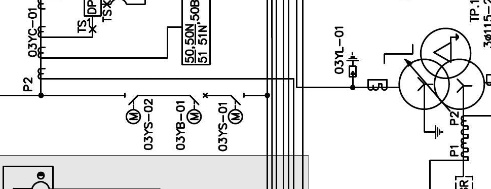11522_tx_ynyn0d1: (398, 27, 486, 110)
115_1way_ds_w_motor: (227, 92, 245, 125), (124, 92, 141, 125)
115_breaker: (190, 92, 208, 106)
115_la: (346, 52, 359, 78)
